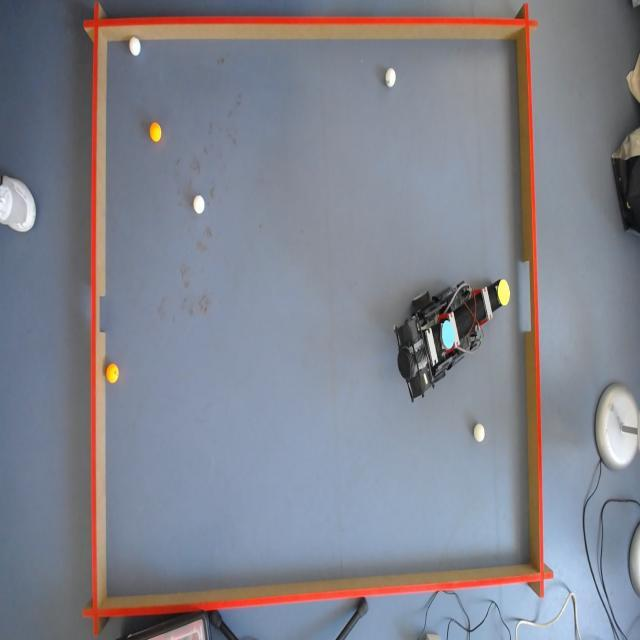orange: (147, 122, 162, 143), (104, 364, 120, 383)
robot: (394, 276, 511, 404)
robot-front: (496, 278, 512, 306)
robot-rear: (440, 319, 454, 350)
white: (128, 38, 141, 58), (386, 66, 398, 85), (192, 196, 205, 213), (474, 424, 486, 442)
